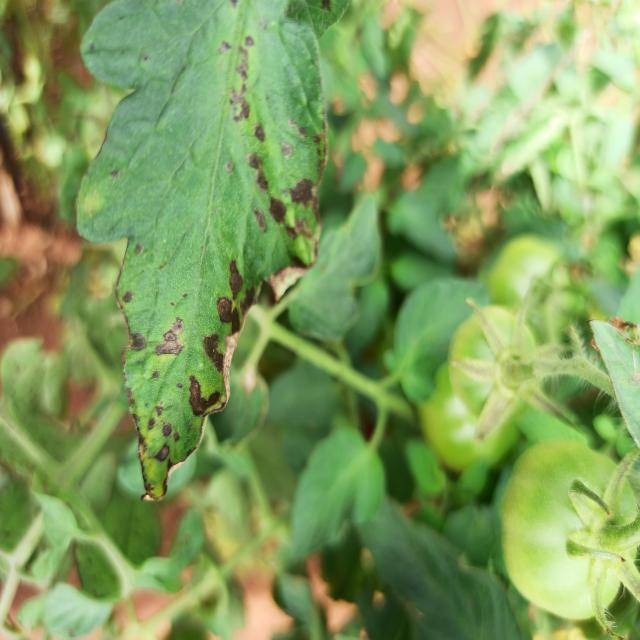Tomato mosaic virus leaf: (74, 172, 329, 507)
